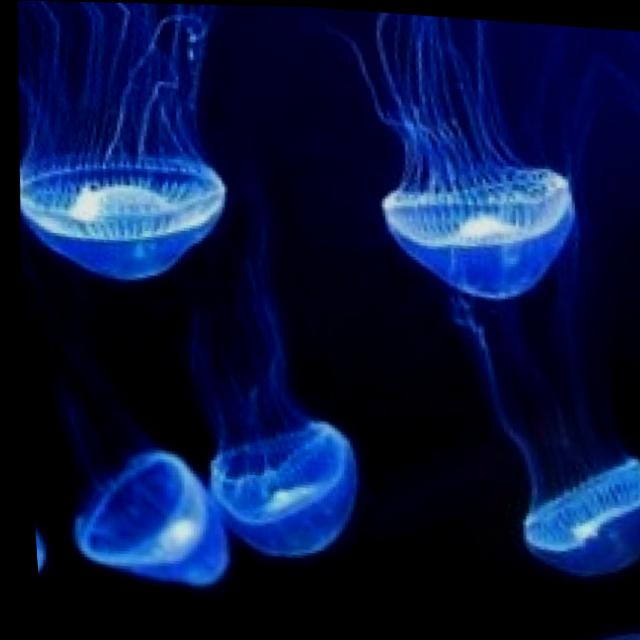Moon-jellyfish: (1, 0, 250, 306), (352, 8, 588, 319), (163, 253, 370, 571), (470, 262, 640, 593), (47, 409, 250, 615)
